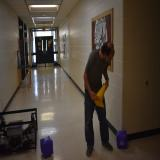cone: (94, 83, 106, 108)
cube: (40, 136, 54, 158), (116, 130, 128, 149)
